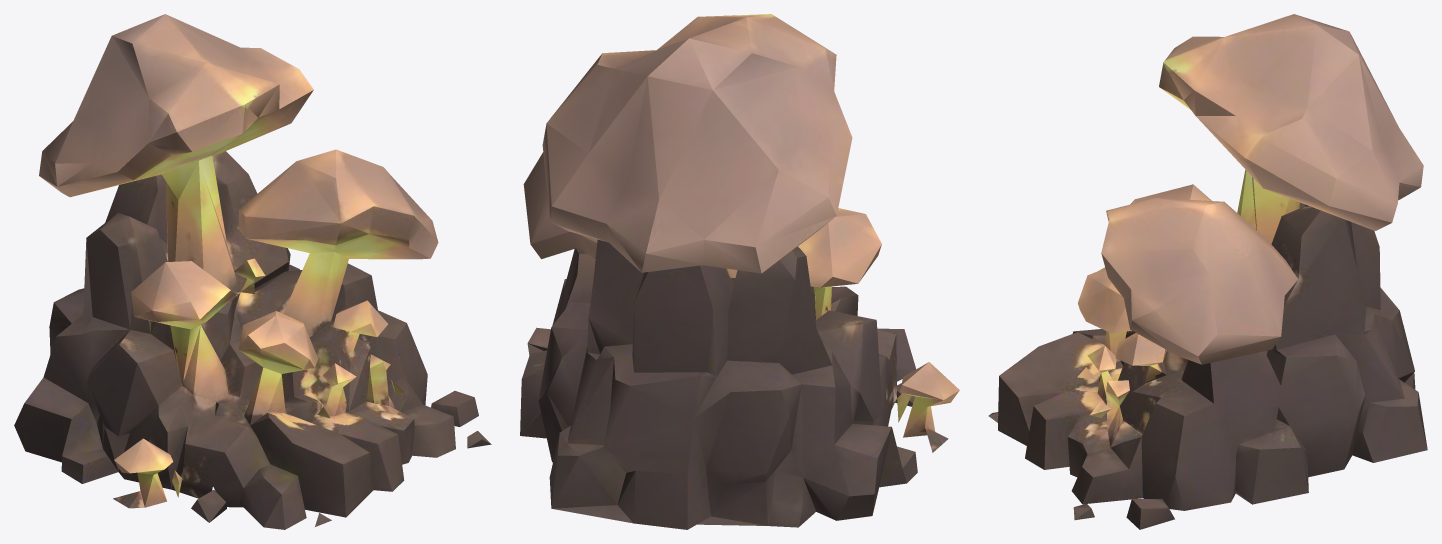
The model's file is mushroom_cluster.glb.
3 renders of one model, left to right at view 1: azimuth 30°, elevation 25°; view 2: azimuth 150°, elevation 25°; view 3: azimuth 270°, elevation 25°, orthographic. The views are drawn at different scales.
Parts seen in each view (by area): view 1: body; view 2: body; view 3: body.
Part boxes in pixels (box(x1,y1,x2,y2)): body: box(14, 14, 491, 529); body: box(520, 14, 959, 529); body: box(988, 14, 1427, 529).
Size of the model in its own units: 0.5099 by 0.4995 by 0.5043.
1 material, 1 textured.
